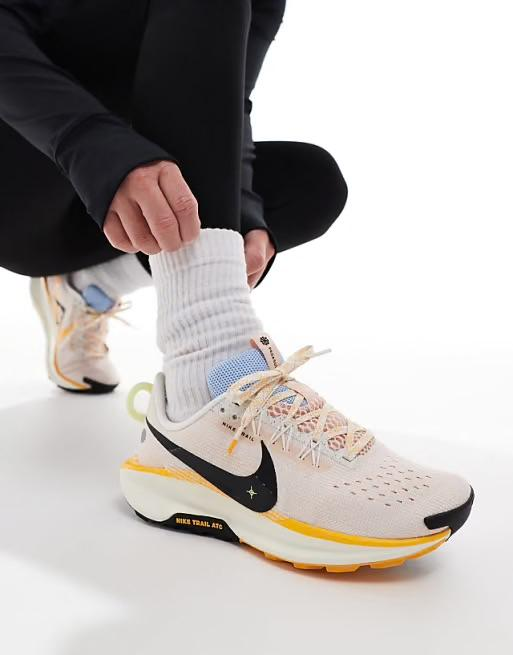nike logo: (142, 415, 295, 527)
